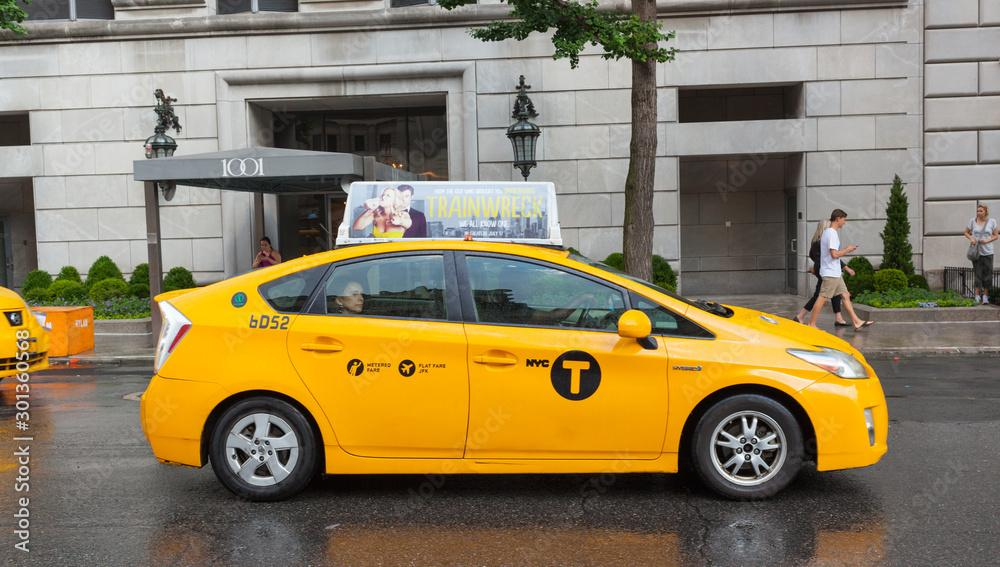taxi: (134, 244, 895, 528)
